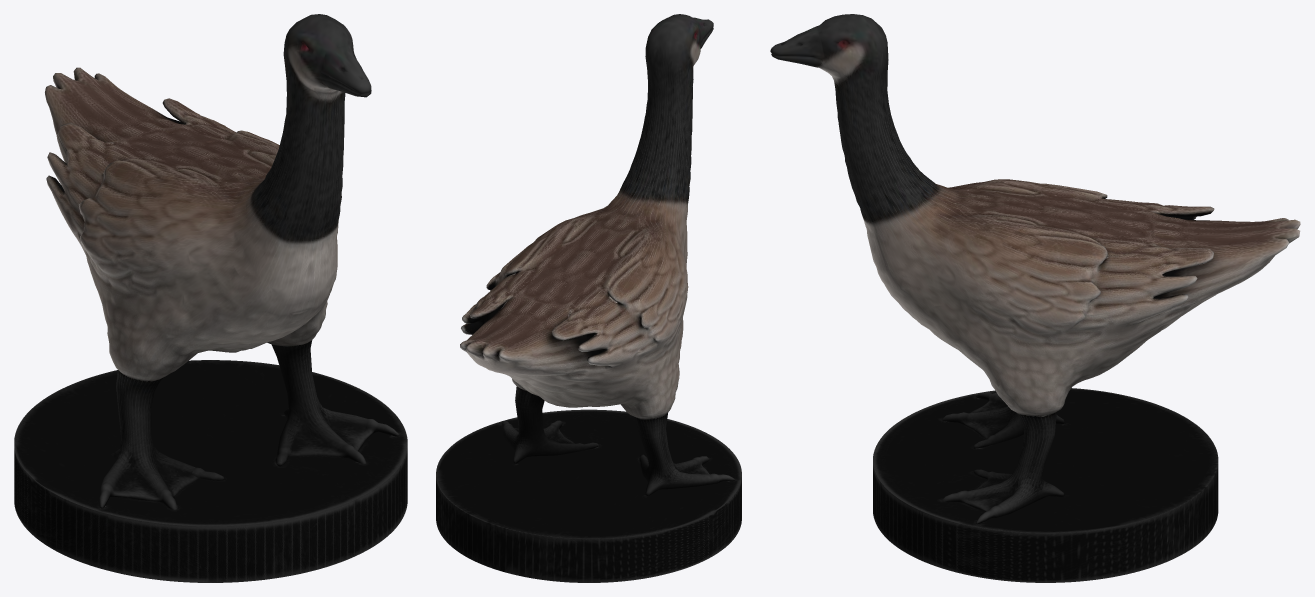
Rendered from MZ4250 - Goose (Canadian).glb.
3 renders of one model, left to right at view 1: azimuth 30°, elevation 25°; view 2: azimuth 150°, elevation 25°; view 3: azimuth 270°, elevation 25°, orthographic. The views are drawn at different scales.
Parts seen in each view (by area): view 1: model_low.001, base_low.001; view 2: model_low.001, base_low.001; view 3: model_low.001, base_low.001.
Part boxes in pixels (x1,y1,x2,y2): model_low.001: (45, 14, 399, 509); base_low.001: (14, 360, 407, 582); model_low.001: (460, 14, 734, 495); base_low.001: (436, 409, 741, 582); model_low.001: (770, 14, 1300, 523); base_low.001: (873, 388, 1218, 582).
Bounding box in the file's own units: 1.35 × 2.12 × 2.06.
1 material, 1 textured.
